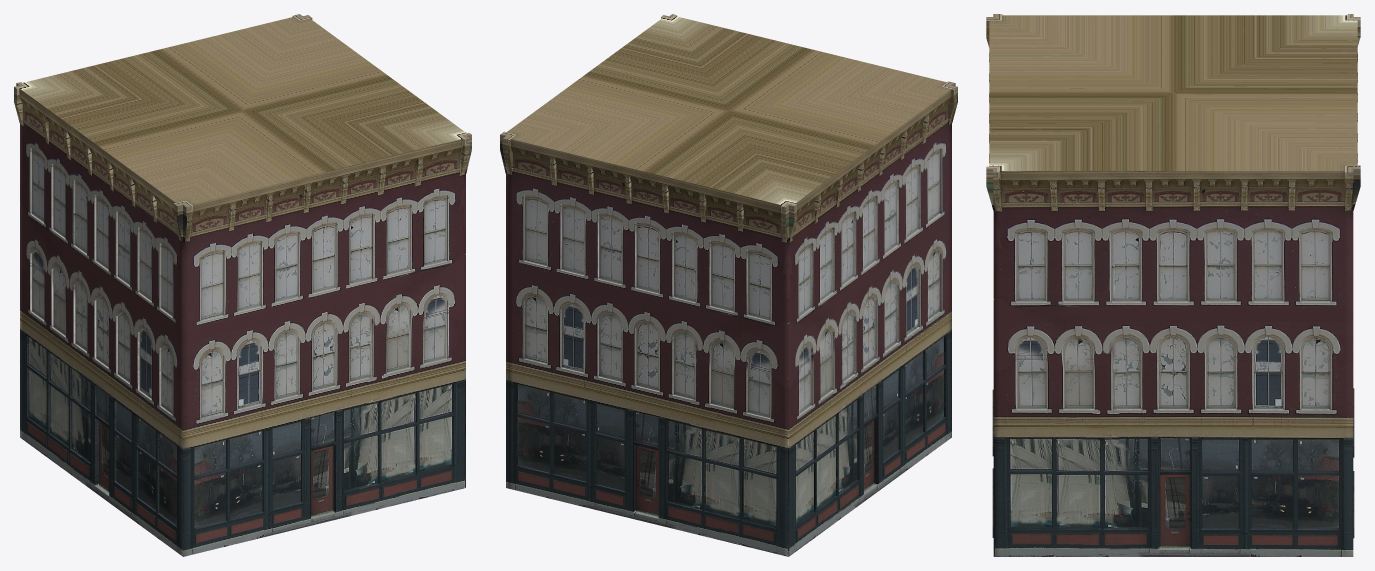
The model's file is building3.obj.
3 renders of one model, left to right at view 1: azimuth 30°, elevation 25°; view 2: azimuth 150°, elevation 25°; view 3: azimuth 270°, elevation 25°, orthographic. The views are drawn at different scales.
Parts seen in each view (by area): view 1: Plane01; view 2: Plane01; view 3: Plane01.
Part boxes in pixels (left/top/right/bottom): Plane01: left=14, top=14, right=471, bottom=556; Plane01: left=500, top=14, right=957, bottom=556; Plane01: left=986, top=14, right=1360, bottom=556.
Bounding box in the file's own units: 1995 × 2280 × 1995.
1 material, 1 textured.
